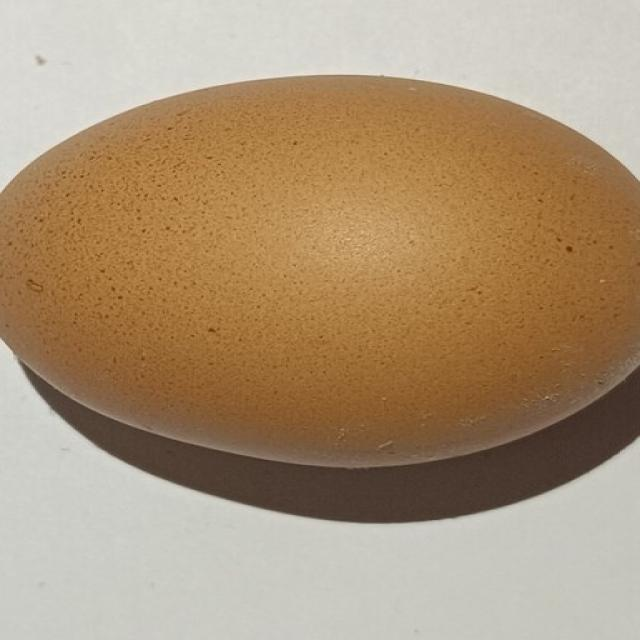unfresh: (0, 62, 640, 472)
